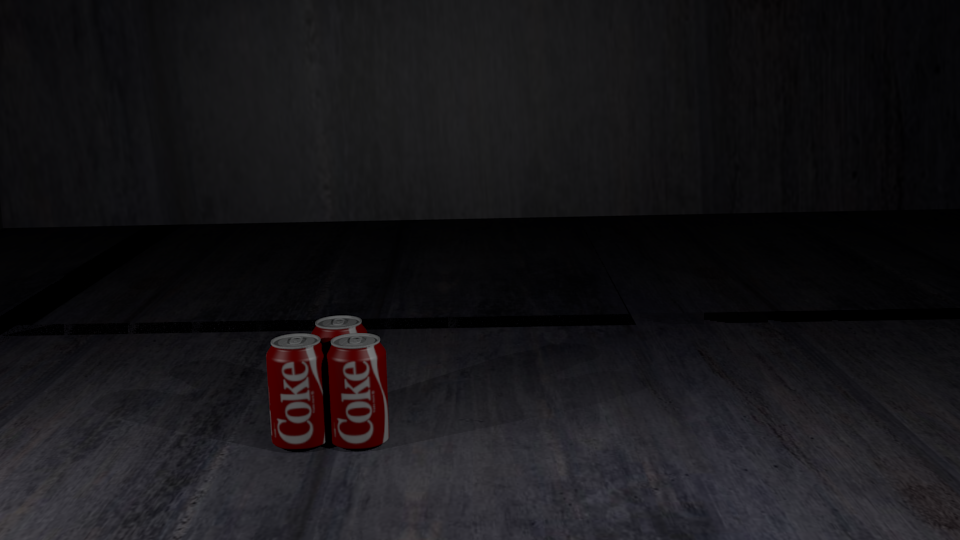cola_can: (266, 334, 328, 446), (326, 333, 387, 445), (311, 316, 366, 422)
